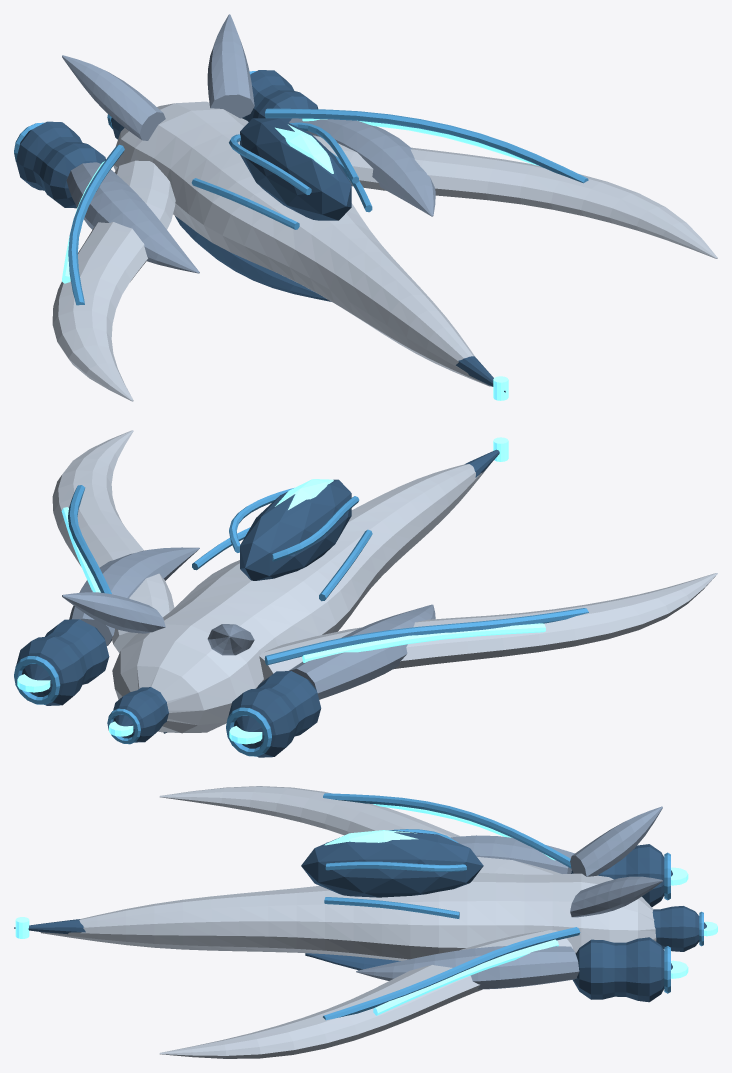
Rendered from SL_PATHFINDER_LOD.glb.
The picture shows the model from 3 angles, top to bottom: view 1: azimuth 30°, elevation 25°; view 2: azimuth 150°, elevation 25°; view 3: azimuth 270°, elevation 25°; orthographic projection. The views are drawn at different scales.
Visible parts, largest first — view 1: armor, plate, dark, accent, energy; view 2: armor, dark, plate, accent, energy; view 3: armor, dark, plate, accent, energy.
Boxes of the visible parts, x1,y1,x2,y2 form: armor: (52, 101, 717, 401); plate: (62, 14, 435, 273); dark: (16, 70, 505, 392); accent: (14, 71, 588, 305); energy: (62, 118, 538, 400); armor: (52, 430, 717, 733); dark: (16, 449, 499, 757); plate: (62, 547, 435, 699); accent: (14, 485, 588, 756); energy: (17, 437, 545, 744); armor: (40, 786, 656, 1058); dark: (14, 830, 706, 1002); plate: (356, 806, 662, 989); accent: (323, 793, 703, 1020); energy: (15, 804, 717, 1015).
Size of the model in its own units: 5.91 by 1.53 by 6.62.
